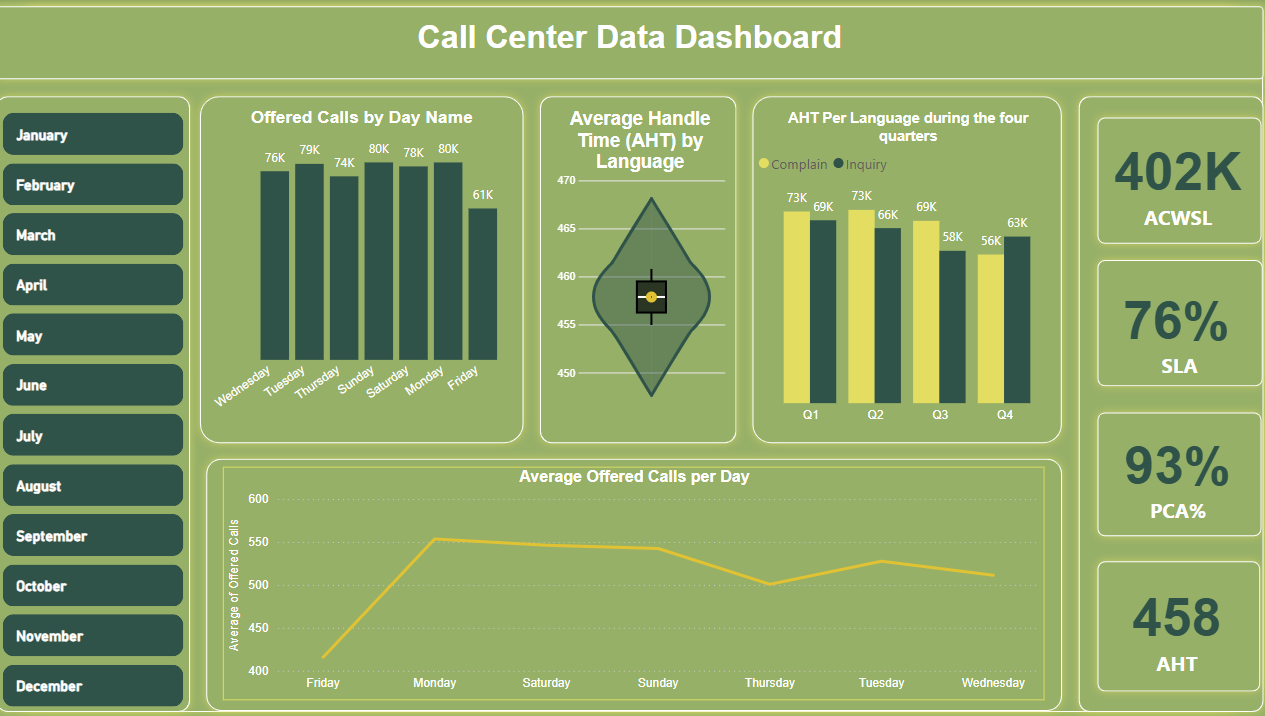

The dashboard page shown, as its layout file describes it:
{"tool":"powerbi","page":{"name":"dash","canvas":[1280,720],"ordinal":1},"visuals":[{"type":"shape","box":[0,0,1279.8,720.2],"z":0},{"type":"shape","box":[0,89.3,209.7,630.4],"z":1000},{"type":"shape","box":[1079.6,89.3,200.6,630.4],"z":2000},{"type":"shape","box":[542.4,89.3,212.3,362.5],"z":2500},{"type":"shape","box":[0,0,1280.3,89.3],"z":3000},{"type":"shape","box":[754.7,89.3,324.9,362.5],"z":5000},{"type":"shape","box":[1098.8,111.3,179.9,142.4],"z":5000,"group":"g1"},{"type":"shape","box":[209.7,451.8,869.9,268],"z":6000},{"type":"textbox","box":[414.3,16.7,452.4,57.1],"z":7000},{"type":"shape","box":[203.2,89.3,339.2,362.5],"z":8000},{"type":"columnChart","title":"Offered Calls  by Day Name","fields":{"Y":["_Call Center KPIs.total of offerd calls"],"Category":["Calendar.Day Name"]},"box":[218.2,108.5,309.2,321.6],"z":9000},{"type":"shape","box":[1098.8,554,178.6,146.3],"z":9000,"group":"g1"},{"type":"clusteredColumnChart","title":"AHT Per Language during the four quarters","fields":{"Y":["Sum(Calls Data.Offered Calls )"],"Series":["Calls Data.Skill"],"Category":["Calendar.Quarter"]},"box":[762.5,111.3,309.4,321],"z":10000},{"type":"shape","box":[1098.8,405.2,179.9,139.8],"z":10000,"group":"g1"},{"type":"advancedSlicerVisual","title":"Offered Calls  by Day Name","fields":{"Values":["Calendar.Month Name"]},"box":[10.4,110,190.3,608.4],"z":11000},{"type":"shape","box":[1098.8,253.7,181.2,142.4],"z":11000,"group":"g1"},{"type":"card","fields":{"Values":["_Call Center KPIs.Service Level Agreement (SLA)"]},"box":[1111,269.4,150.2,123],"z":12000,"group":"g2"},{"type":"card","fields":{"Values":["_Call Center KPIs.Percentage of Answered Calls (PCA%)"]},"box":[1112.3,413.1,150.2,123],"z":13000,"group":"g2"},{"type":"lineChart","title":"Average Offered Calls per Day","fields":{"Category":["Calendar.Date Hierarchy.Date","Calendar.Date Hierarchy.Day Name","Calendar.Date Hierarchy.Month Name","Calendar.Date Hierarchy.Quarter"],"Y":["Avg(Calls Data.Offered Calls )"]},"box":[234.2,467.1,819.2,232.9],"z":13000},{"type":"violinPlot4D46EB9EB3A141D9BA2289793175D971","fields":{"measure":["_Call Center KPIs.Average Handle Time (AHT)"],"sampling":["Calls Data.Language"]},"box":[560.5,110,178.6,313.3],"z":14000},{"type":"card","fields":{"Values":["_Call Center KPIs.Average Handle Time (AHT)"]},"box":[1111,565.8,150.2,123],"z":14000,"group":"g2"},{"type":"group","id":"g1","title":"Group 2","box":[1098.8,111.3,181.2,589],"z":14500},{"type":"group","id":"g2","title":"Group 1","box":[1111,120.5,152.1,568.5],"z":15000},{"type":"actionButton","box":[1105.7,564.7,164.6,124.7],"z":15001,"group":"g3"},{"type":"actionButton","box":[1106.9,413.9,164.6,124.7],"z":15002,"group":"g3"},{"type":"actionButton","box":[1103.2,263.1,164.6,124.7],"z":15003,"group":"g3"},{"type":"actionButton","box":[1106.9,119.7,164.6,124.7],"z":15004,"group":"g3"},{"type":"group","id":"g3","title":"Group 3","box":[1103.2,119.7,168.3,569.7],"z":15005},{"type":"card","fields":{"Values":["_Call Center KPIs.Ans Calls Within Service Level"]},"box":[1112.3,120.5,150.2,123],"z":16000,"group":"g2"}]}

Visuals, with their boxes in screenshot pixels (x1, y1, x2, y2), scaled from the page's 1280x720 canvas onto the 1265x716 screenshot:
shape: (x1=0, y1=0, x2=1264, y2=715)
shape: (x1=0, y1=89, x2=207, y2=715)
shape: (x1=1067, y1=89, x2=1264, y2=715)
shape: (x1=536, y1=89, x2=746, y2=449)
shape: (x1=0, y1=0, x2=1264, y2=89)
shape: (x1=746, y1=89, x2=1067, y2=449)
shape: (x1=1086, y1=111, x2=1264, y2=252)
shape: (x1=207, y1=449, x2=1067, y2=715)
textbox: (x1=409, y1=17, x2=857, y2=73)
shape: (x1=201, y1=89, x2=536, y2=449)
"Offered Calls  by Day Name" columnChart: (x1=216, y1=108, x2=521, y2=428)
shape: (x1=1086, y1=551, x2=1262, y2=696)
"AHT Per Language during the four quarters" clusteredColumnChart: (x1=754, y1=111, x2=1059, y2=430)
shape: (x1=1086, y1=403, x2=1264, y2=542)
"Offered Calls  by Day Name" advancedSlicerVisual: (x1=10, y1=109, x2=198, y2=714)
shape: (x1=1086, y1=252, x2=1264, y2=394)
card - _Call Center KPIs.Service Level Agreement (SLA): (x1=1098, y1=268, x2=1246, y2=390)
card - _Call Center KPIs.Percentage of Answered Calls (PCA%): (x1=1099, y1=411, x2=1248, y2=533)
"Average Offered Calls per Day" lineChart: (x1=231, y1=465, x2=1041, y2=696)
violinPlot4D46EB9EB3A141D9BA2289793175D971 - _Call Center KPIs.Average Handle Time (AHT) x Calls Data.Language: (x1=554, y1=109, x2=730, y2=421)
card - _Call Center KPIs.Average Handle Time (AHT): (x1=1098, y1=563, x2=1246, y2=685)
"Group 2" group: (x1=1086, y1=111, x2=1264, y2=696)
"Group 1" group: (x1=1098, y1=120, x2=1248, y2=685)
actionButton: (x1=1093, y1=562, x2=1255, y2=686)
actionButton: (x1=1094, y1=412, x2=1257, y2=536)
actionButton: (x1=1090, y1=262, x2=1253, y2=386)
actionButton: (x1=1094, y1=119, x2=1257, y2=243)
"Group 3" group: (x1=1090, y1=119, x2=1257, y2=686)
card - _Call Center KPIs.Ans Calls Within Service Level: (x1=1099, y1=120, x2=1248, y2=242)
